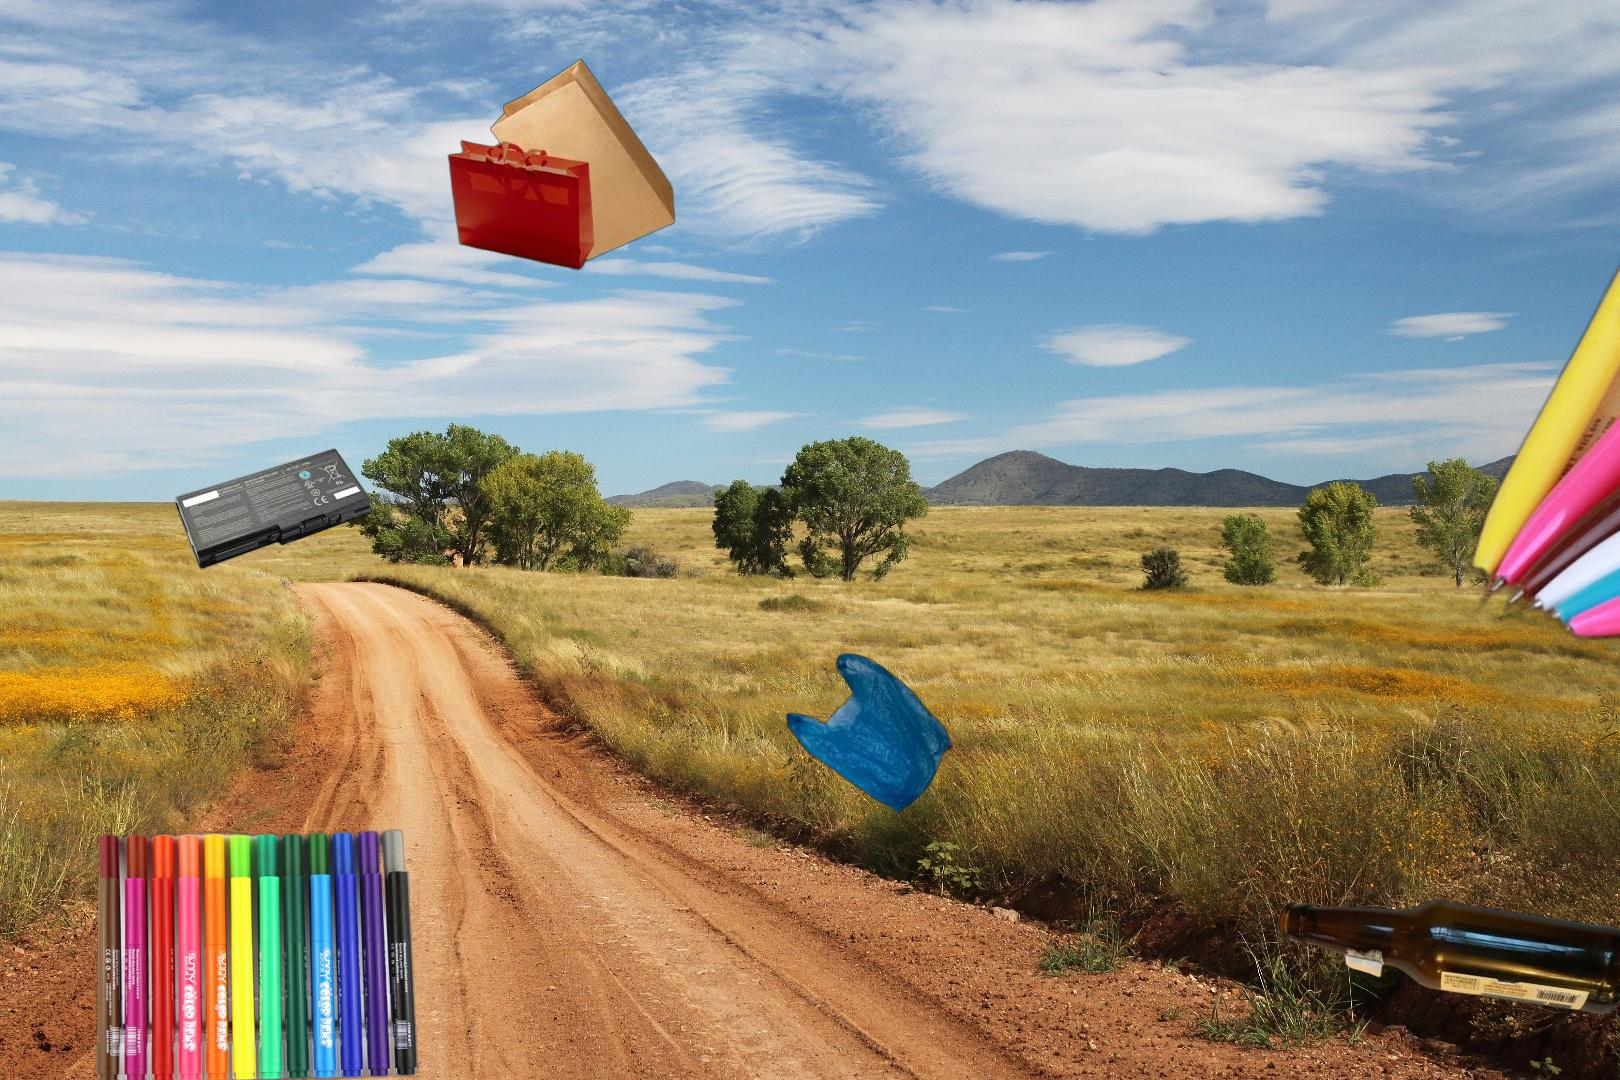battery: (174, 446, 374, 573)
glass: (1273, 897, 1620, 1019)
paper-bag: (447, 58, 677, 272)
penholder: (89, 827, 424, 1080), (1462, 200, 1620, 648)
plastic-bag: (785, 651, 955, 816)
plastic-bottles: (1600, 405, 1620, 626)
